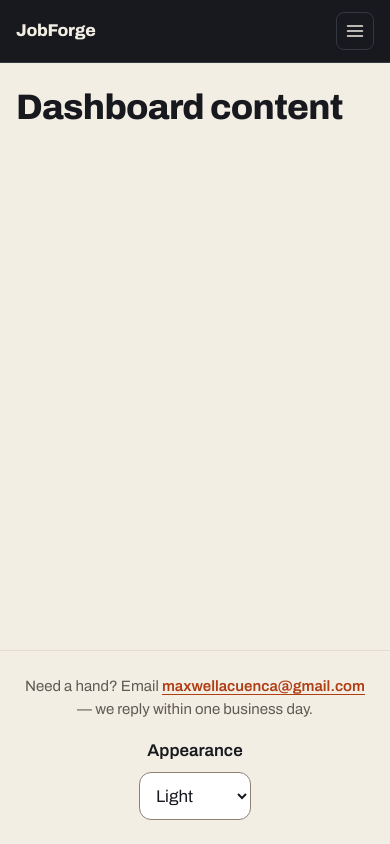
the customer workspace › announces whether the small-screen menu is open
The width and height of the screenshot is (390, 844).
Click the button named "open menu". click: (355,31)
box: [336,12,374,50]
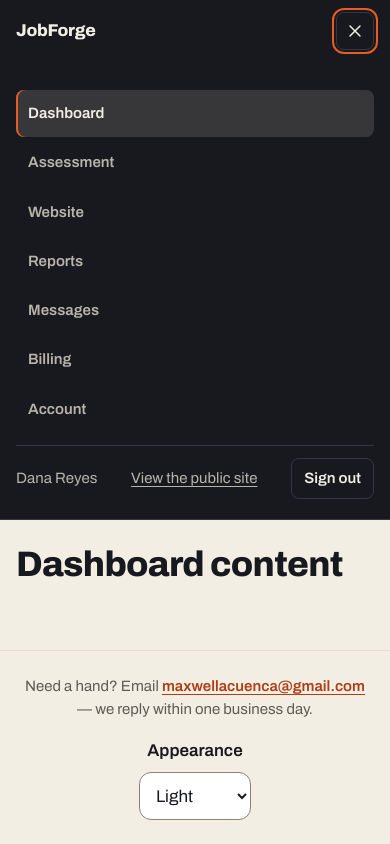
Expected: the button named "close menu" is expanded, [336,12,374,50]
